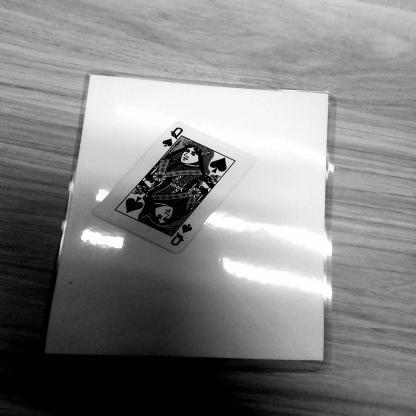QH: (167, 218, 196, 246), (158, 124, 186, 152)
